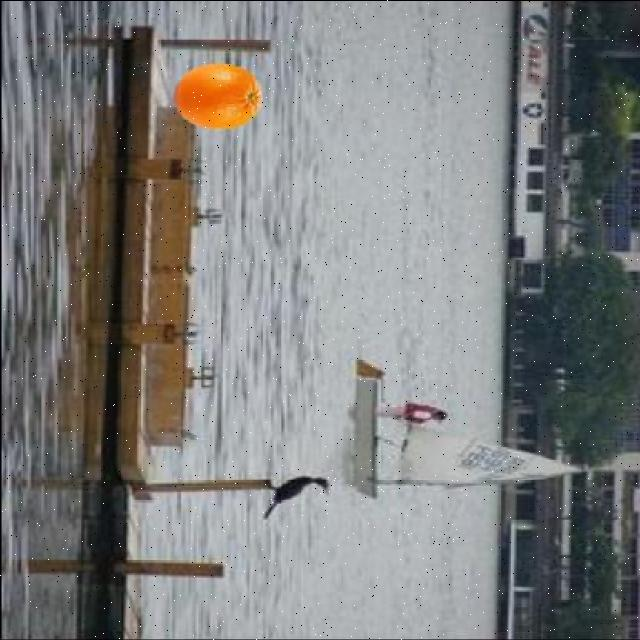Orange: (170, 63, 262, 131)
